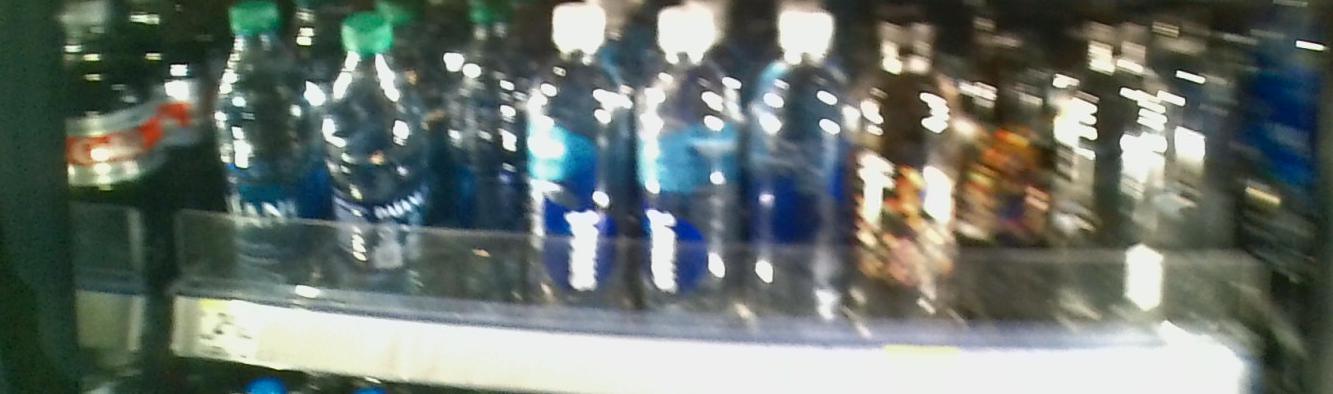bottle: (854, 15, 967, 350), (529, 2, 630, 349), (213, 4, 321, 319), (750, 6, 846, 358), (640, 13, 741, 346), (327, 11, 418, 319), (438, 1, 517, 304)
